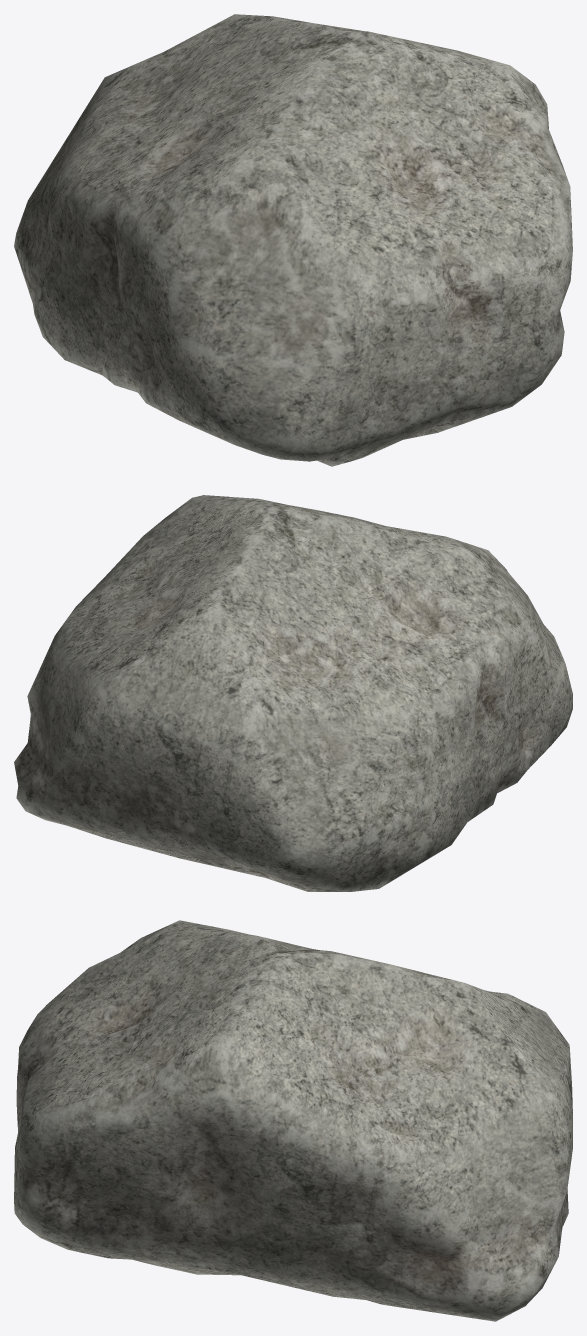
The model's file is andesite.fbx.
3 renders of one model, top to bottom at view 1: azimuth 30°, elevation 25°; view 2: azimuth 150°, elevation 25°; view 3: azimuth 270°, elevation 25°, orthographic. The views are drawn at different scales.
Parts seen in each view (by area): view 1: Object_2; view 2: Object_2; view 3: Object_2.
Part boxes in pixels (x1,y1,x2,y2): Object_2: (14, 14, 572, 466); Object_2: (14, 495, 572, 891); Object_2: (14, 920, 572, 1321).
Bounding box in the file's own units: 149 × 104 × 169.
1 material, 1 textured.
